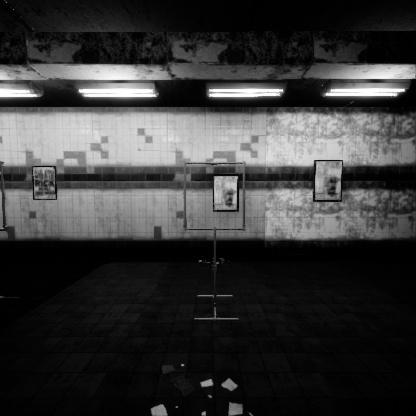gate: (184, 185, 251, 254)
